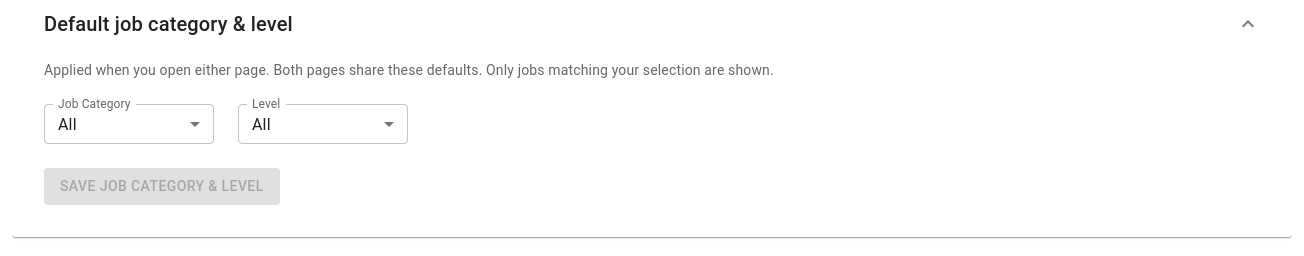
it: CategoryLevelDefaults — the subcategory tree › leaves the Level control alone
Click the dropdown named "Level".
click(261, 124)  # box [252,114,271,134]
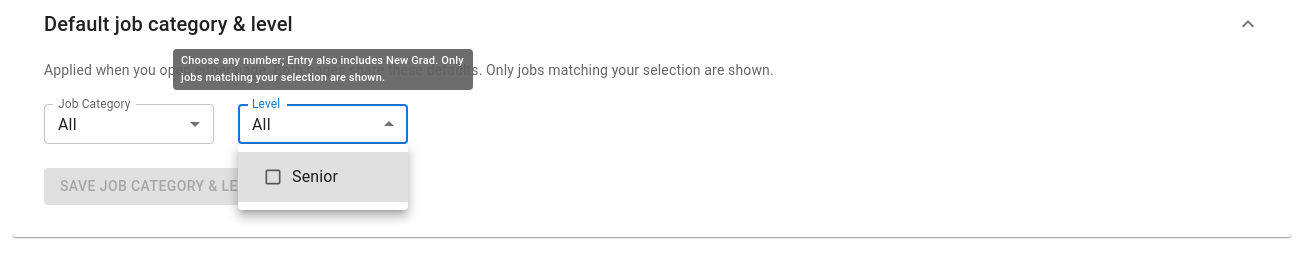
Result: the option "Senior" is shown at [238,152,408,202]
